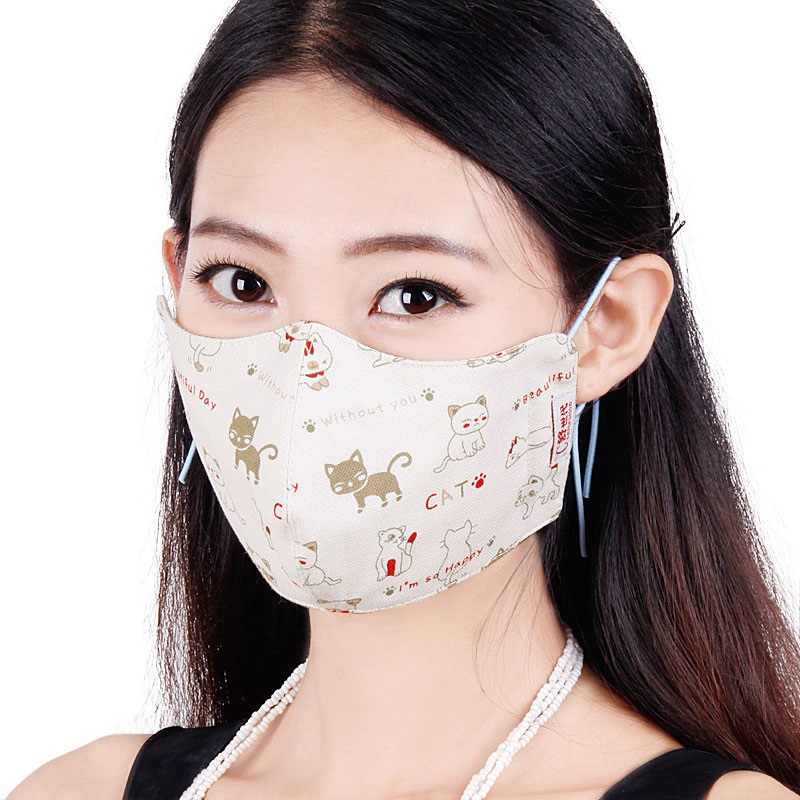face_mask: (169, 101, 563, 604)
